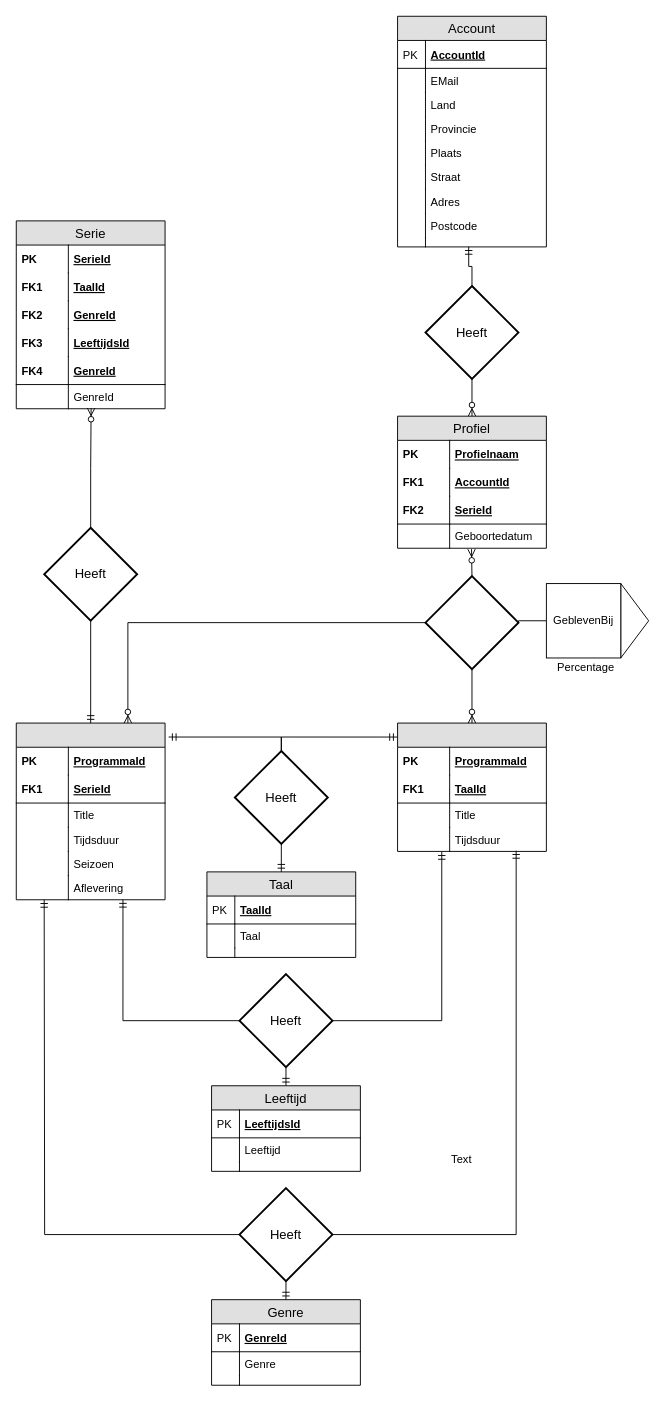
The diagram is 665 pixels wide and 1402 high, and some of its shapes have lost their labels. The shapes that lost their labels are listed below. From the top down, each one's box as (x1, y1, x2, y2) in pixels, then its label:
(424, 575, 519, 670): Bekijkt
(397, 722, 546, 851): Film
(15, 722, 165, 900): Episode
